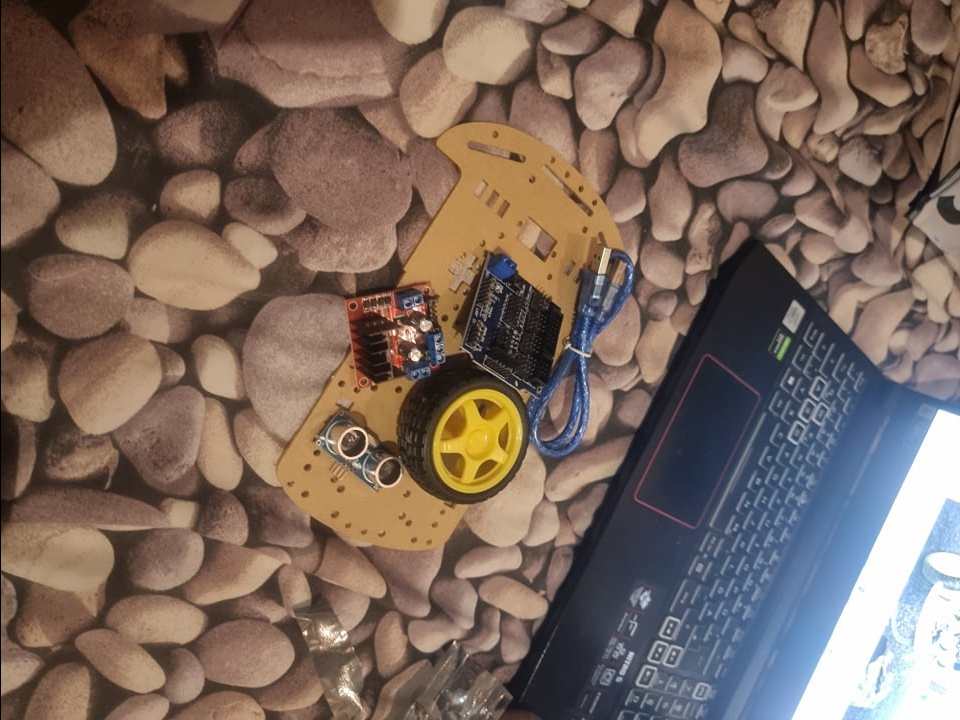5V EXPANSION: (460, 248, 564, 402)
MOTOR: (344, 278, 447, 389)
SENSOR: (313, 413, 408, 496)
